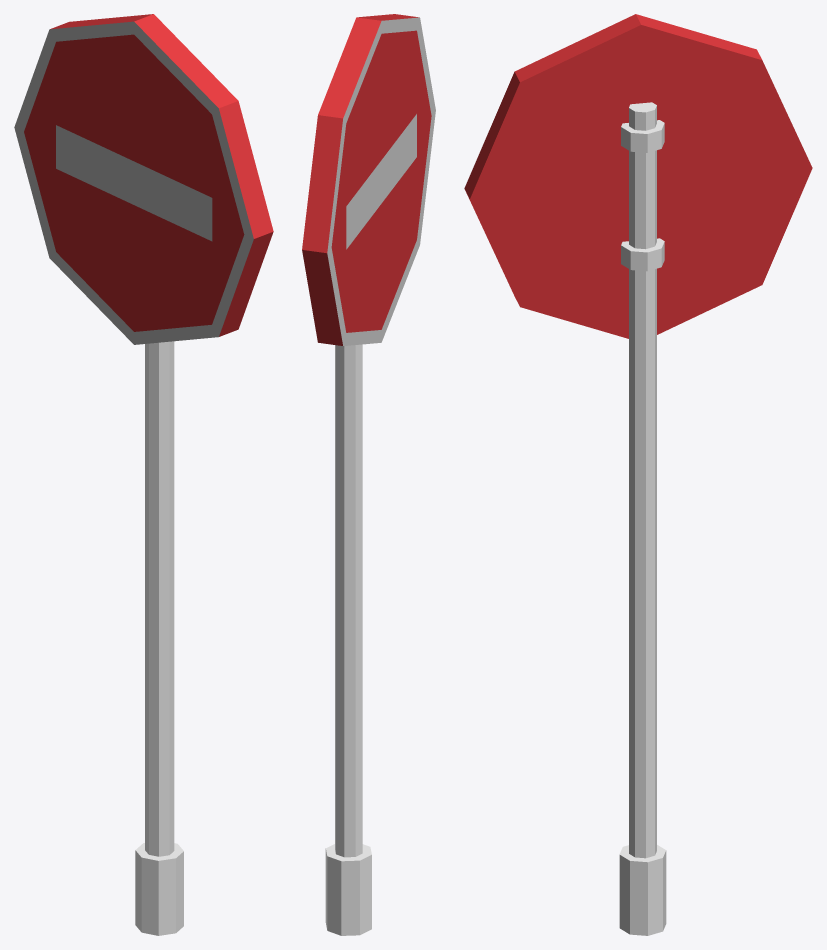
File: Sign11.fbx
3 renders of one model, left to right at view 1: azimuth 30°, elevation 25°; view 2: azimuth 150°, elevation 25°; view 3: azimuth 270°, elevation 25°, orthographic.
Parts seen in each view (by area): view 1: Sign1; view 2: Sign1; view 3: Sign1.
Boxes of the visible parts, x1=… form: Sign1: x1=14, y1=14, x2=273, y2=935; Sign1: x1=302, y1=14, x2=435, y2=935; Sign1: x1=464, y1=14, x2=812, y2=935.
Size of the model in its own units: 20.44 by 203 by 71.47.
